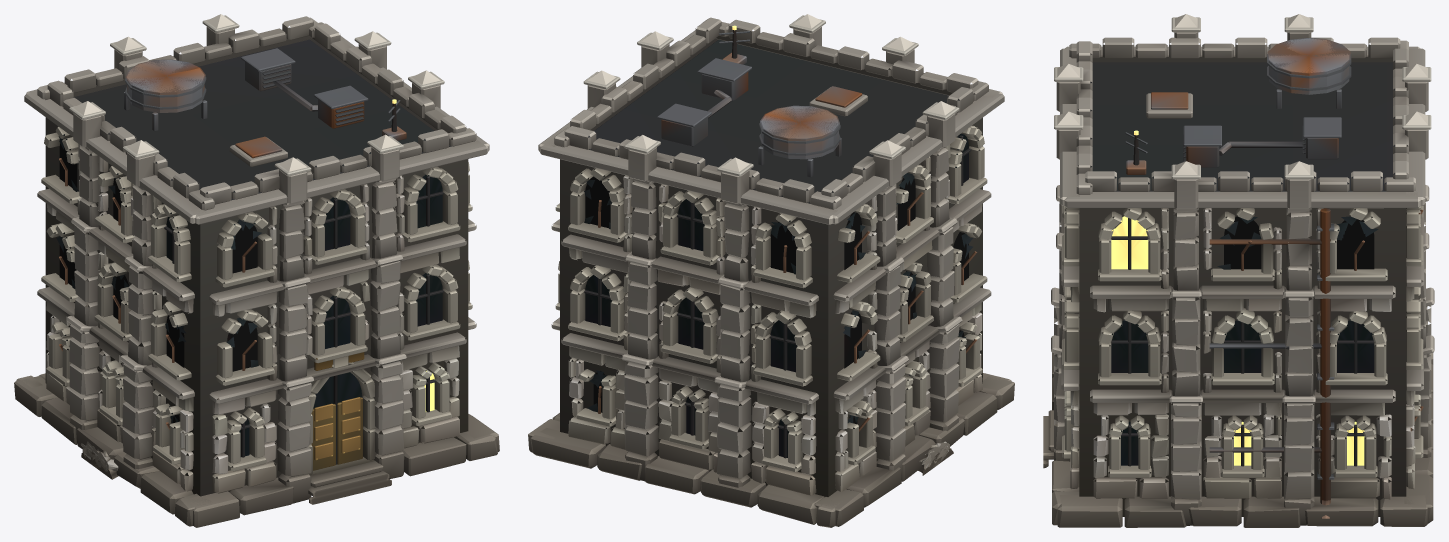
Rendered from building.glb.
3 renders of one model, left to right at view 1: azimuth 30°, elevation 25°; view 2: azimuth 150°, elevation 25°; view 3: azimuth 270°, elevation 25°, orthographic. The views are drawn at different scales.
Visible parts, largest first — view 1: building; view 2: building; view 3: building.
Boxes of the visible parts, x1,y1,x2,y2 form: building: (14, 14, 499, 527); building: (528, 14, 1014, 527); building: (1043, 14, 1434, 527).
Size of the model in its own units: 0.9844 by 1 by 0.9813.
